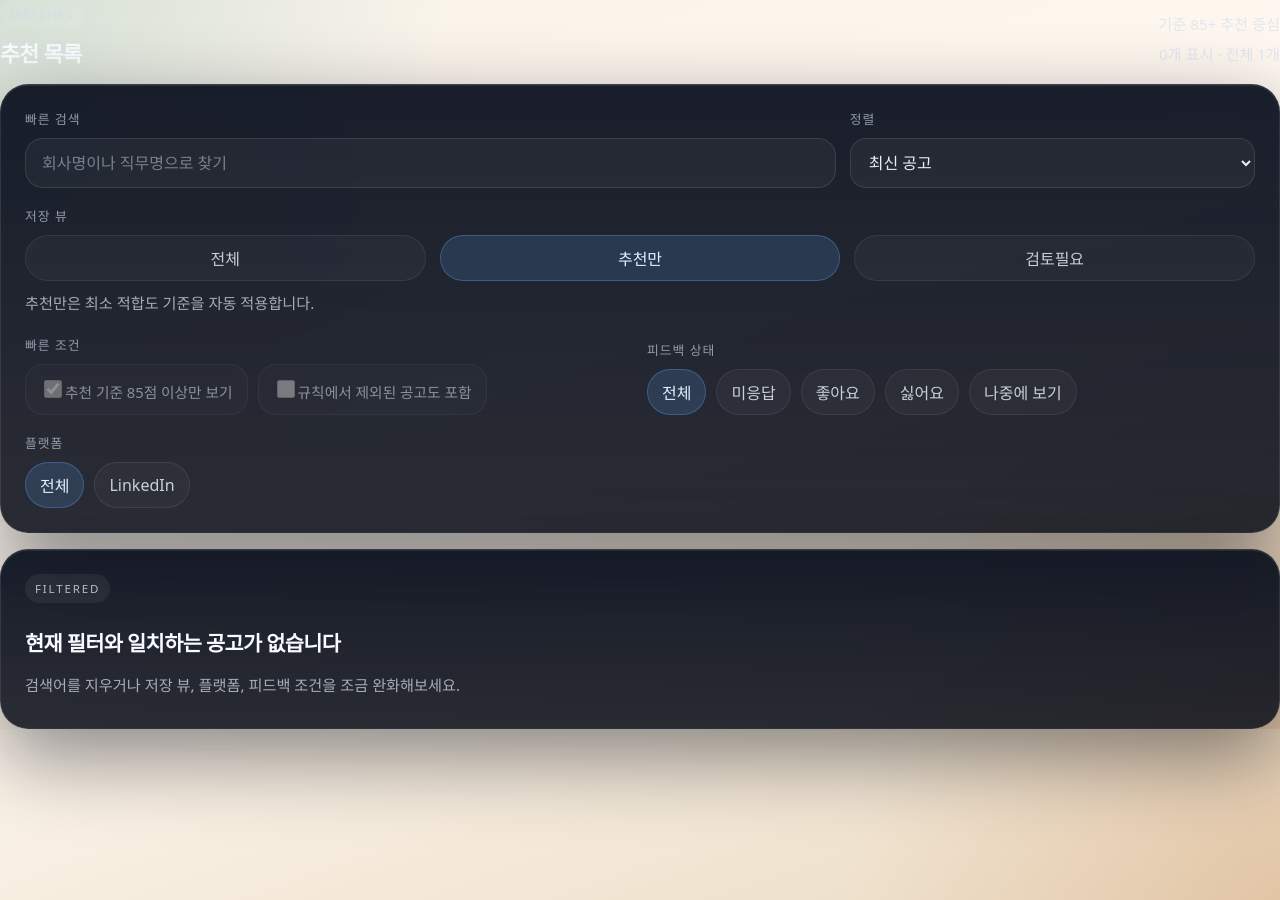
Test: RecommendationBoard › reveals pending recommendations when the score checkbox is turned off
The width and height of the screenshot is (1280, 900).
Expected: the heading "현재 필터와 일치하는 공고가 없습니다" is shown, [25,629,340,657]
Click the button "검토필요": (1055, 258) [854,235,1255,281]
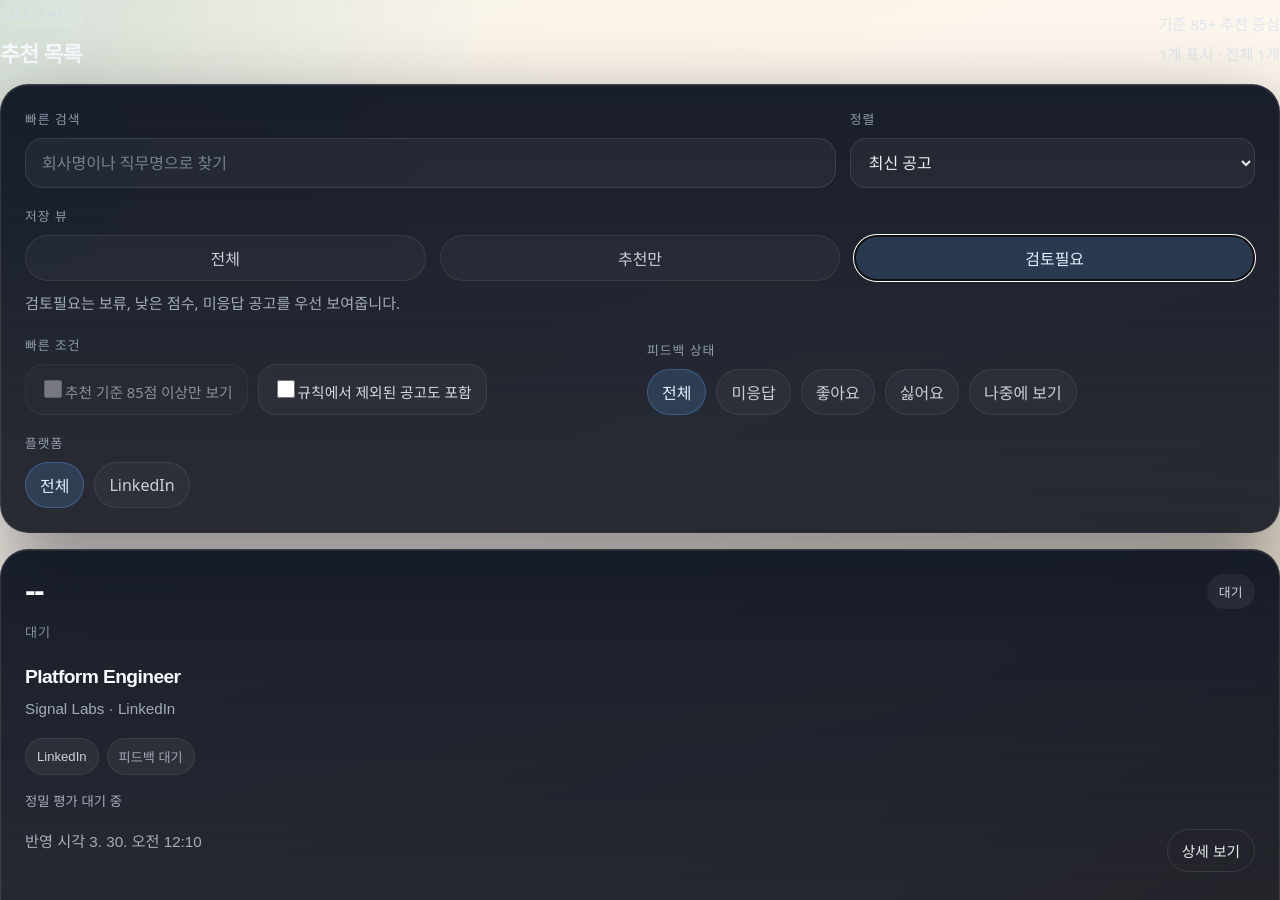
Result: the heading "Platform Engineer" is shown at [25,666,180,687]
Result: the text "대기" is shown 2 times at [25,622,51,641]; [1207,574,1255,609]
Result: the text "피드백 대기" is shown at [107,738,195,775]
